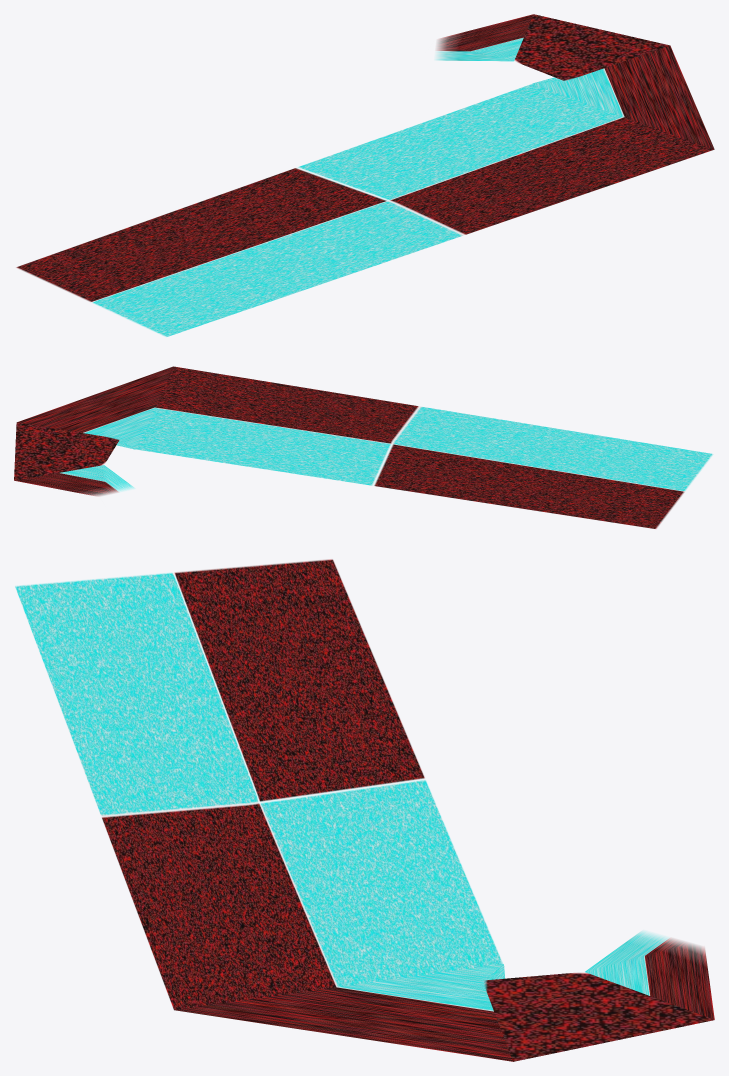
3 renders of one model, top to bottom at view 1: azimuth 30°, elevation 25°; view 2: azimuth 150°, elevation 25°; view 3: azimuth 270°, elevation 25°, orthographic. The views are drawn at different scales.
Parts seen in each view (by area): view 1: SM_VFX_BM_LakeRiver01_LOD0; view 2: SM_VFX_BM_LakeRiver01_LOD0; view 3: SM_VFX_BM_LakeRiver01_LOD0.
Boxes of the visible parts, left/top/right/bottom form: SM_VFX_BM_LakeRiver01_LOD0: left=16, top=14, right=714, bottom=336; SM_VFX_BM_LakeRiver01_LOD0: left=14, top=366, right=713, bottom=528; SM_VFX_BM_LakeRiver01_LOD0: left=15, top=559, right=714, bottom=1061.
Bounding box in the file's own units: 113 × 2.35 × 66.48.
1 material, 1 textured.
